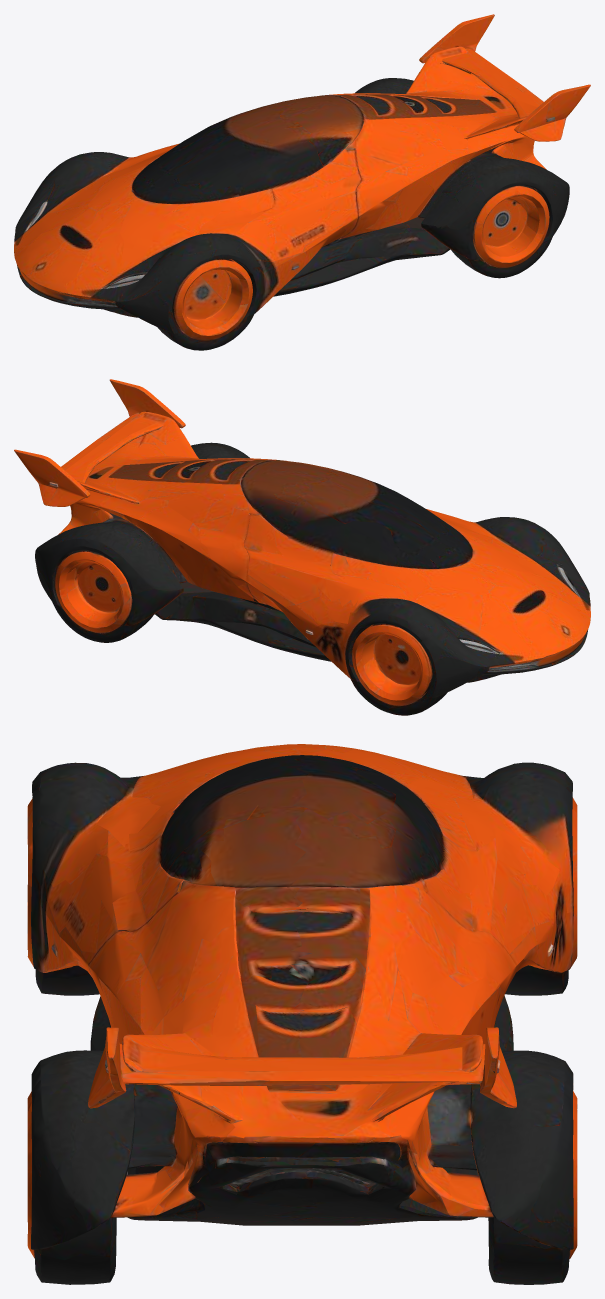
Rendered from heroCar.504dd96b.glb.
The picture shows the model from 3 angles, top to bottom: view 1: azimuth 30°, elevation 25°; view 2: azimuth 150°, elevation 25°; view 3: azimuth 270°, elevation 25°; orthographic projection. The views are drawn at different scales.
Visible parts, largest first — view 1: chassis_body, wheel_fr, wheel_rr; view 2: chassis_body, wheel_fl, wheel_rl; view 3: chassis_body, wheel_rl, wheel_rr.
Boxes of the visible parts, x1,y1,x2,y2 form: chassis_body: (14, 14, 590, 350); wheel_fr: (393, 227, 470, 260); wheel_rr: (224, 280, 283, 339); chassis_body: (14, 379, 590, 715); wheel_fl: (134, 592, 213, 625); wheel_rl: (332, 644, 379, 701); chassis_body: (27, 744, 577, 1284); wheel_rl: (504, 901, 577, 995); wheel_rr: (27, 912, 100, 999).
Size of the model in its own units: 1.9 by 0.5539 by 0.8821.
1 material, 1 textured.
